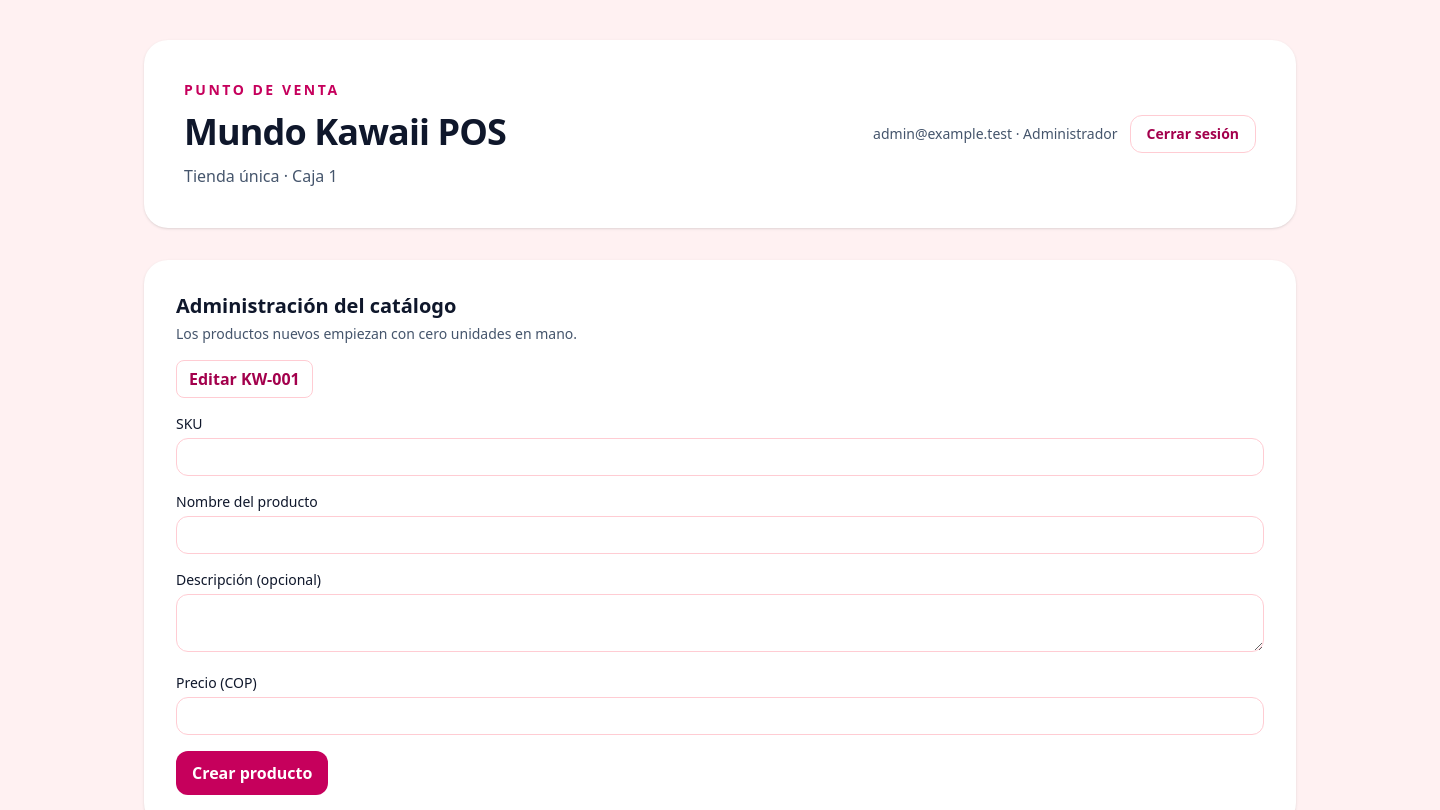
it: administrator product form › treats a update product as saved when refreshing the catalog fails
Click the button "Editar KW-001".
click(244, 379)  # box [176, 360, 313, 398]
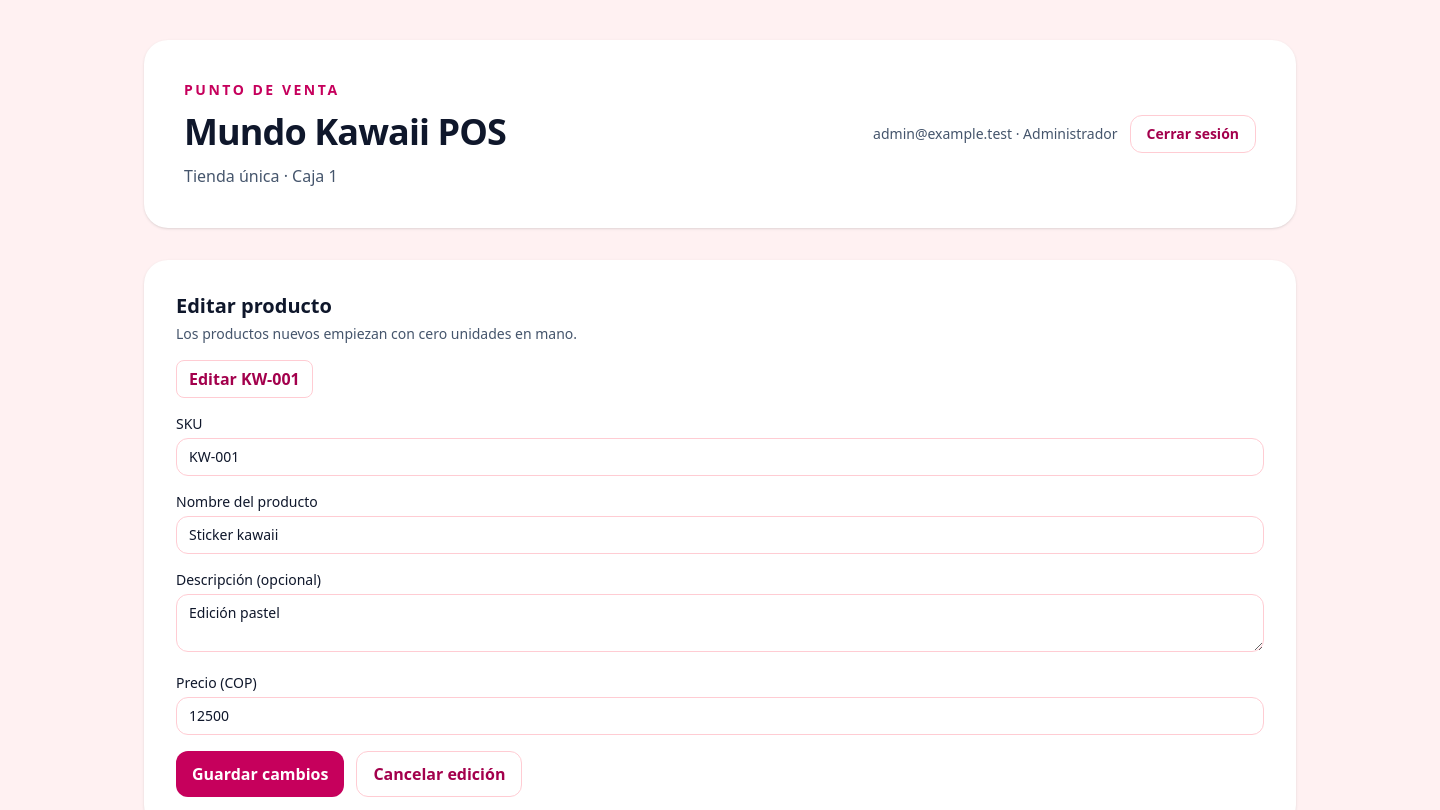
Replace the text in the field labelled "Nombre del producto" with "Sticker edición nueva" at x=720, y=535, box [176, 516, 1264, 554]
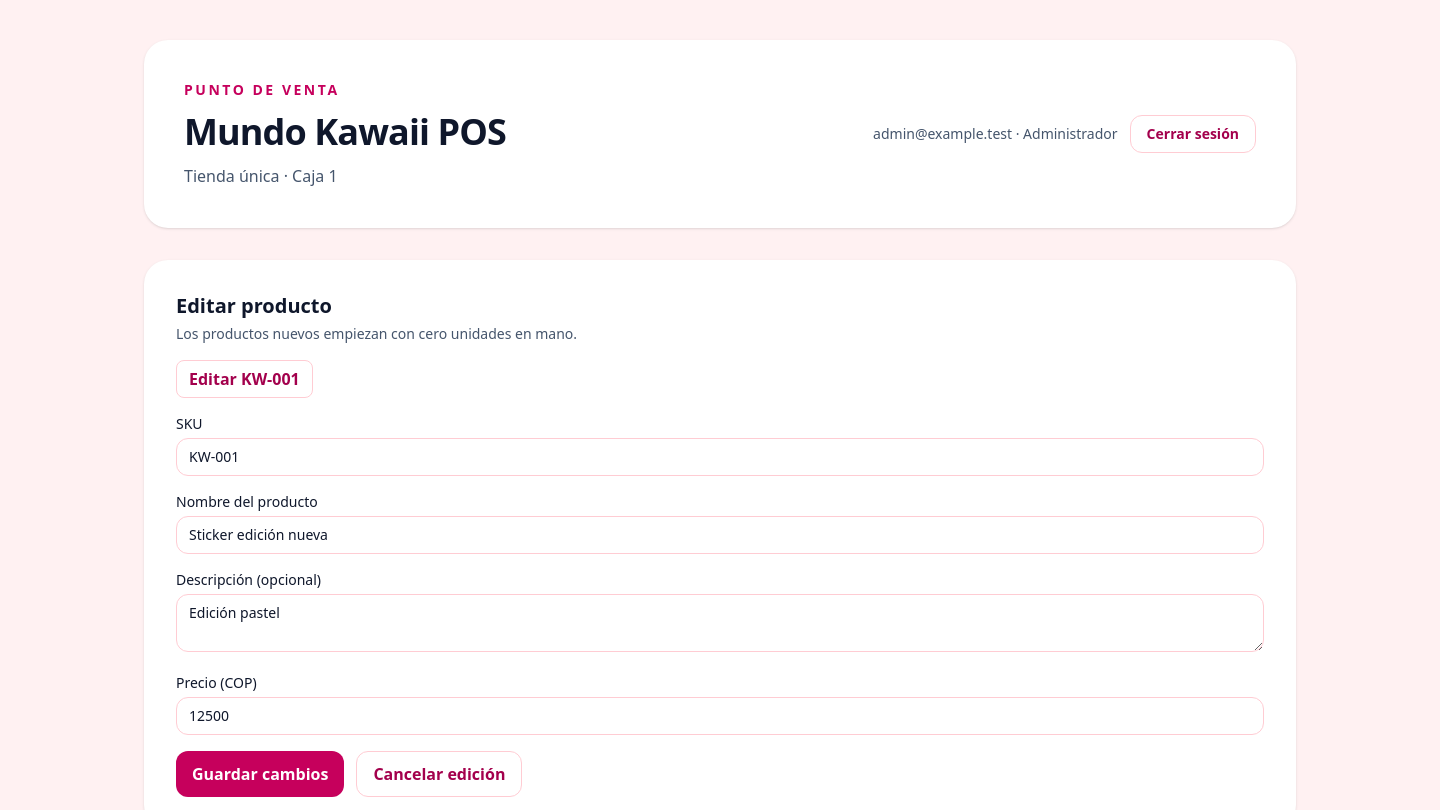
Click the button "Guardar cambios".
click(260, 774)  # box [176, 751, 344, 797]
(page scrolled)
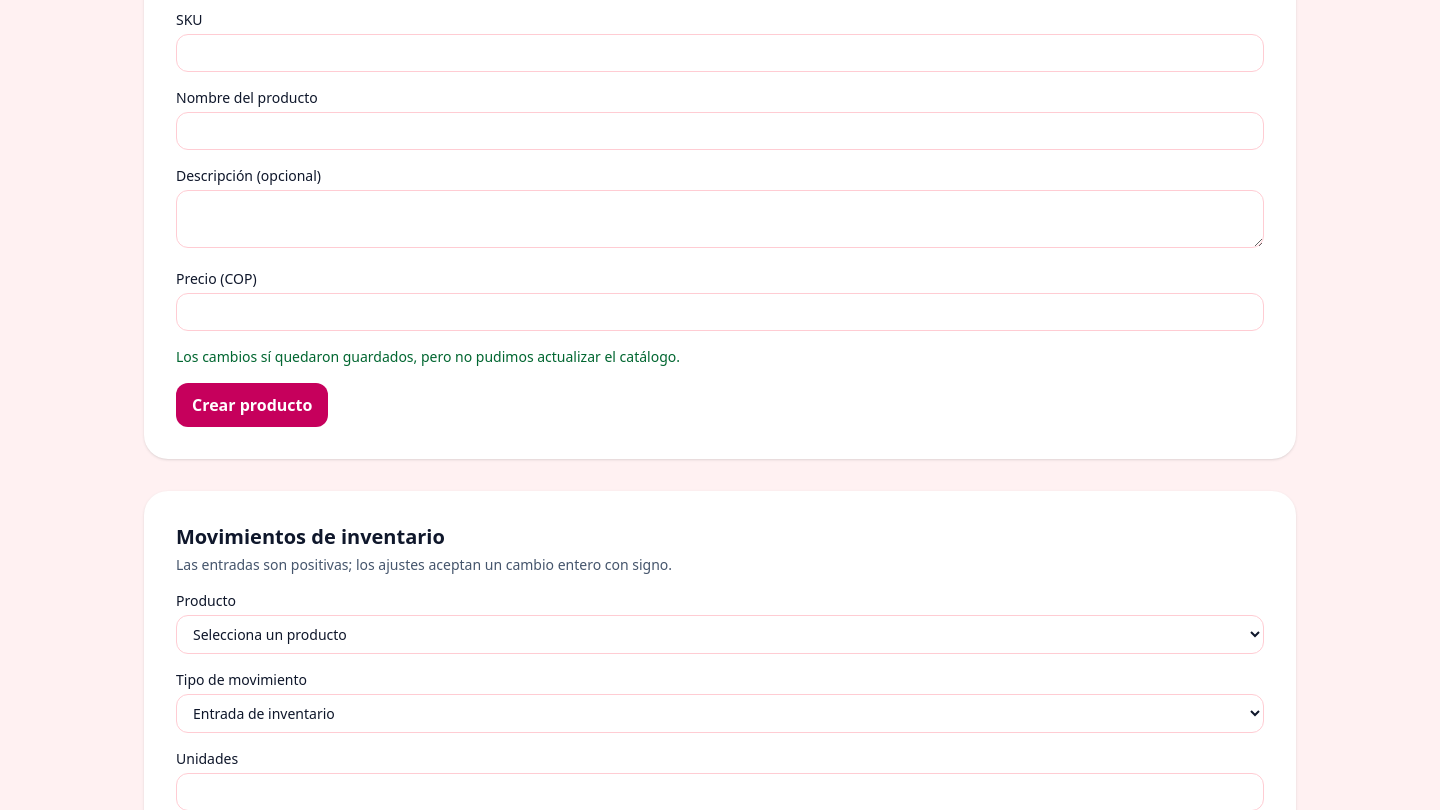
Result: the message reads "Los cambios sí quedaron guardados, pero no pudimos actualizar el catálogo." at [176, 347, 680, 366]
Result: the field labelled "Nombre del producto" is empty at [176, 112, 1264, 150]
Result: the number field labelled "Precio (COP)" is not empty at [176, 293, 1264, 331]
